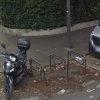Motorcycle: (1, 34, 31, 100)
